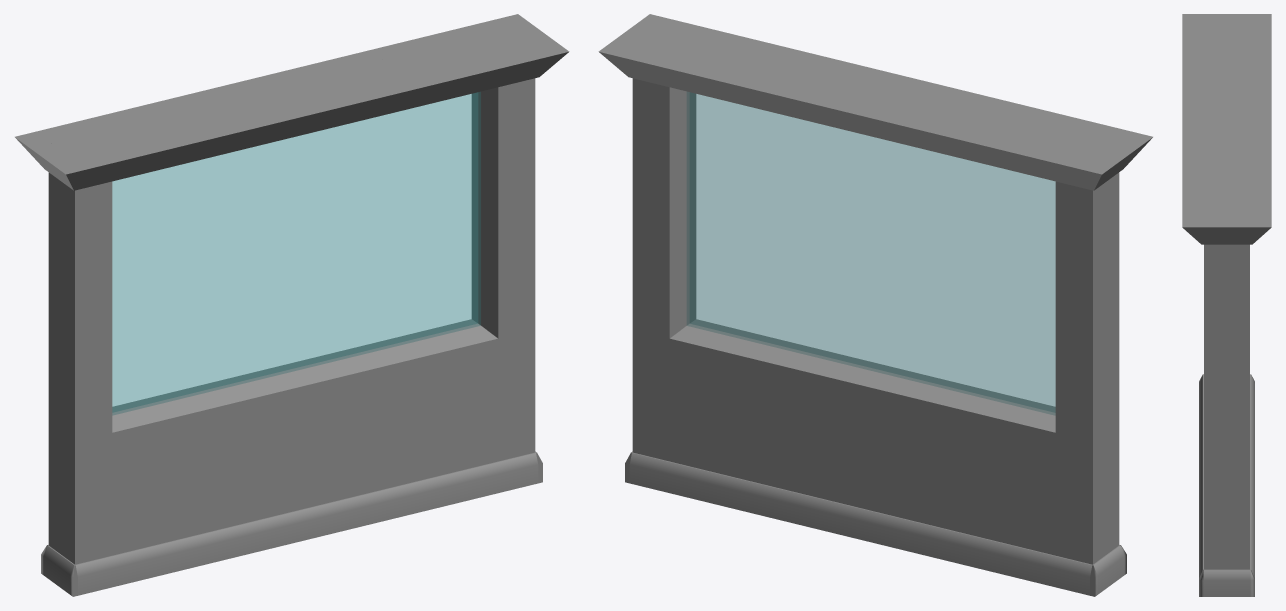
The model's file is Wall_Window.fbx.
3 views of the same model, side by side, from view 1: azimuth 30°, elevation 25°; view 2: azimuth 150°, elevation 25°; view 3: azimuth 270°, elevation 25° (orthographic). The views are drawn at different scales.
Parts seen in each view (by area): view 1: Wall_Window, Window, Wall_Skirting_Front2, Wall_Architrave_Front7, Wall_Architrave_Rear7, Wall_Architrave_L_End13, Wall_Architrave_R_End14, Wall_Skirting_L_End11; view 2: Wall_Window, Window, Wall_Skirting_Rear2, Wall_Architrave_Rear7, Wall_Architrave_Front7, Wall_Architrave_L_End13, Wall_Architrave_R_End14, Wall_Skirting_L_End11; view 3: Wall_Window, Wall_Architrave_Rear7, Wall_Architrave_Front7, Wall_Architrave_R_End14, Wall_Skirting_R_End12, Wall_Skirting_Rear2, Wall_Skirting_Front2, Wall_Architrave_L_End13.
Part boxes in pixels (x1,y1,x2,y2): Wall_Window: (48, 28, 535, 564); Window: (112, 92, 480, 414); Wall_Skirting_Front2: (75, 452, 538, 595); Wall_Architrave_Front7: (75, 48, 547, 189); Wall_Architrave_Rear7: (36, 19, 508, 140); Wall_Architrave_L_End13: (15, 131, 87, 190); Wall_Architrave_R_End14: (497, 14, 569, 77); Wall_Skirting_L_End11: (41, 545, 77, 596); Wall_Window: (632, 28, 1119, 564); Window: (687, 92, 1055, 414); Wall_Skirting_Rear2: (629, 452, 1092, 595); Wall_Architrave_Rear7: (620, 48, 1092, 189); Wall_Architrave_Front7: (659, 19, 1131, 140); Wall_Architrave_L_End13: (1080, 131, 1152, 190); Wall_Architrave_R_End14: (598, 14, 670, 77); Wall_Skirting_L_End11: (1090, 545, 1126, 596); Wall_Window: (1204, 23, 1249, 569); Wall_Architrave_Rear7: (1250, 23, 1271, 218); Wall_Architrave_Front7: (1182, 23, 1203, 218); Wall_Architrave_R_End14: (1182, 218, 1271, 244); Wall_Skirting_R_End12: (1199, 569, 1254, 596); Wall_Skirting_Rear2: (1250, 374, 1254, 577); Wall_Skirting_Front2: (1199, 374, 1203, 577); Wall_Architrave_L_End13: (1182, 14, 1271, 22).
Bounding box in the file's own units: 547 × 450 × 96.95.
